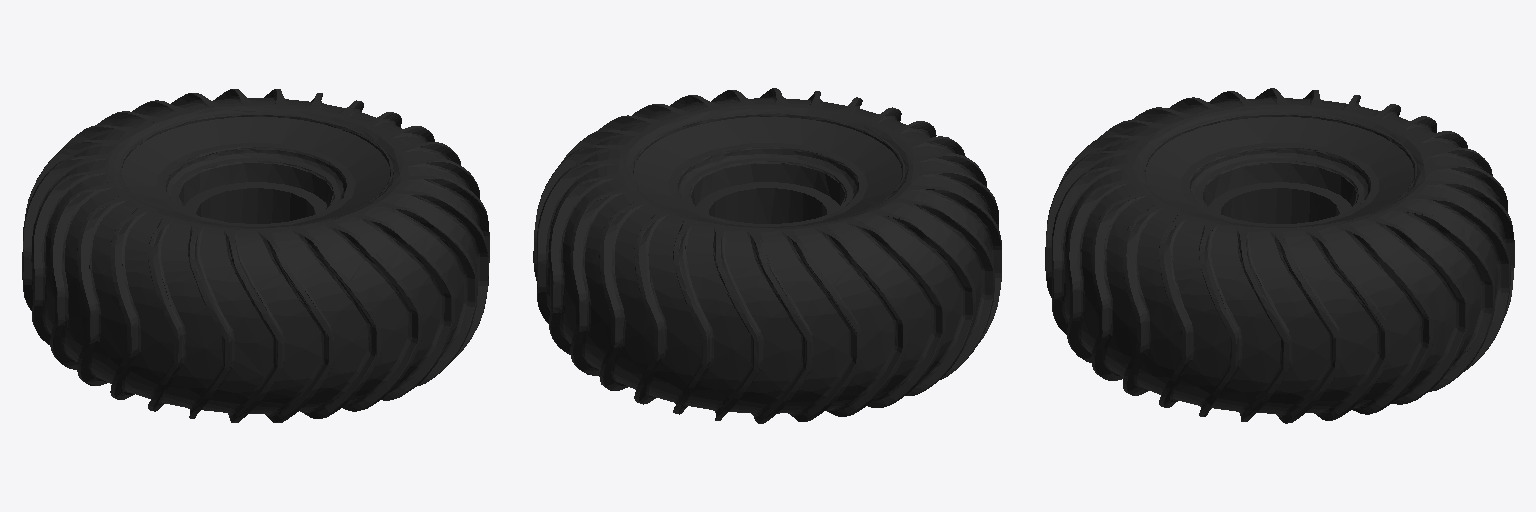
Rendered from clearpath_warthog_single_wheel.obj.
3 views of the same model, side by side, from view 1: azimuth 30°, elevation 25°; view 2: azimuth 150°, elevation 25°; view 3: azimuth 270°, elevation 25° (orthographic).
Visible parts, largest first — view 1: Wheel; view 2: Wheel; view 3: Wheel.
Boxes of the visible parts, <box> form: Wheel: <box>22,89,489,422</box>; Wheel: <box>533,88,1001,423</box>; Wheel: <box>1045,88,1514,423</box>.
Size of the model in its own units: 0.6092 by 0.2542 by 0.6092.